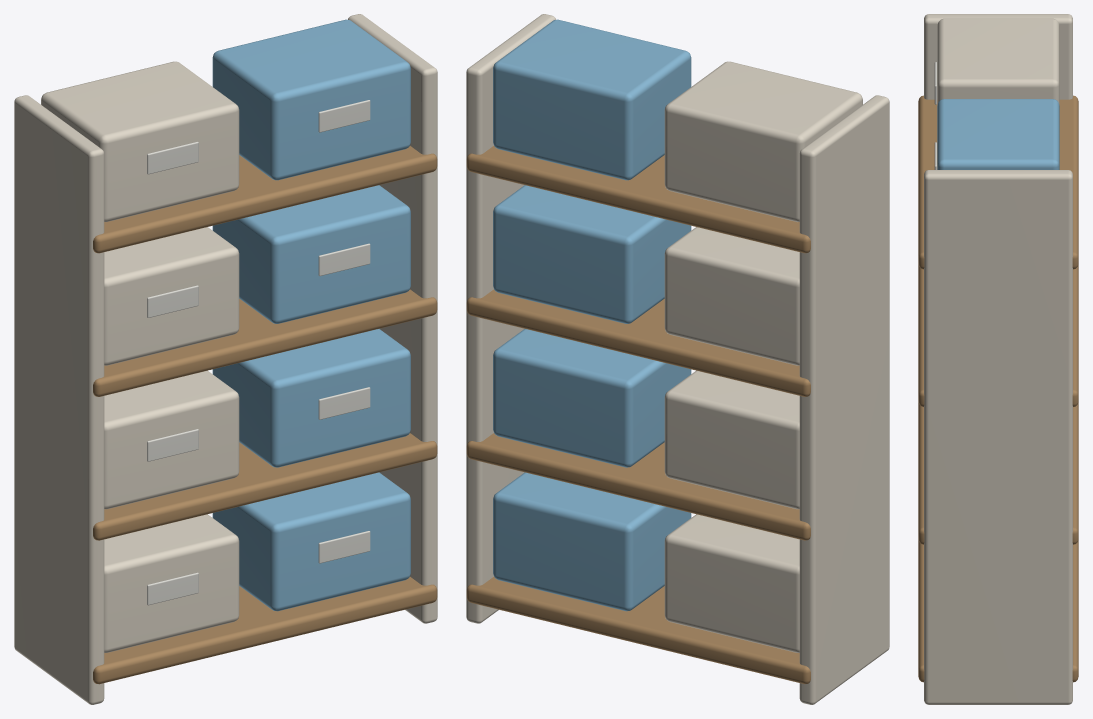
Rendered from cl_stock.glb.
3 views of the same model, side by side, from view 1: azimuth 30°, elevation 25°; view 2: azimuth 150°, elevation 25°; view 3: azimuth 270°, elevation 25° (orthographic). The views are drawn at different scales.
Parts seen in each view (by area): view 1: prop; view 2: prop; view 3: prop.
Part boxes in pixels (<box>): prop: <box>14,14,437,704</box>; prop: <box>466,14,889,704</box>; prop: <box>918,14,1078,704</box>.
Size of the model in its own units: 1.42 by 2.18 by 0.5901.
